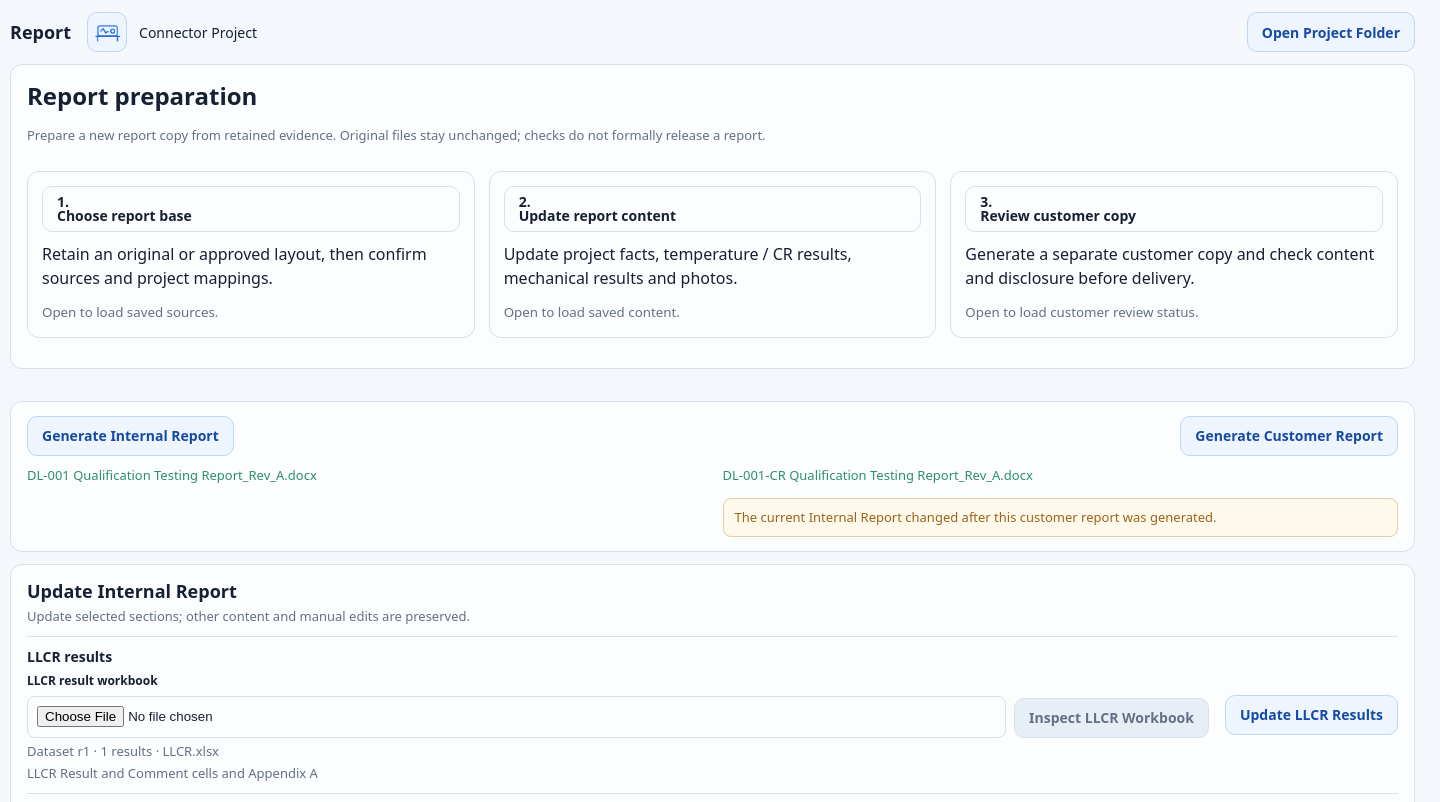
Test: ReportWorkspace › updates only the LLCR region of the current report without selecting a revision
The width and height of the screenshot is (1440, 802).
expect the text "LLCR Result and Comment cells and Appendix A" is shown: met, box top-left (27, 764), bottom-right (318, 782)
Click the button "Update LLCR Results" at [1311, 715], box top-left (1225, 695), bottom-right (1398, 735)
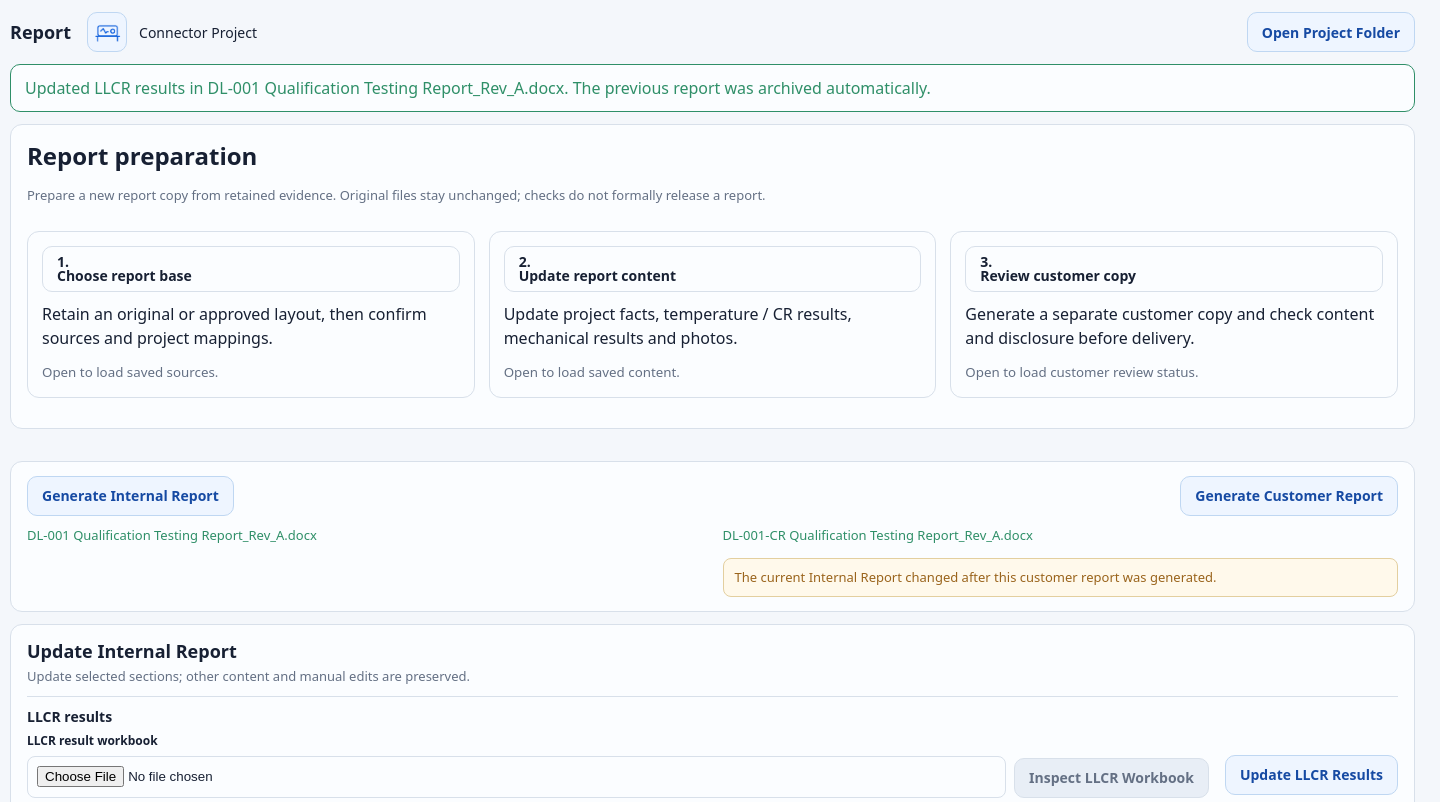
expect the text "Updated LLCR results in" is shown: met, box top-left (25, 77), bottom-right (931, 99)
